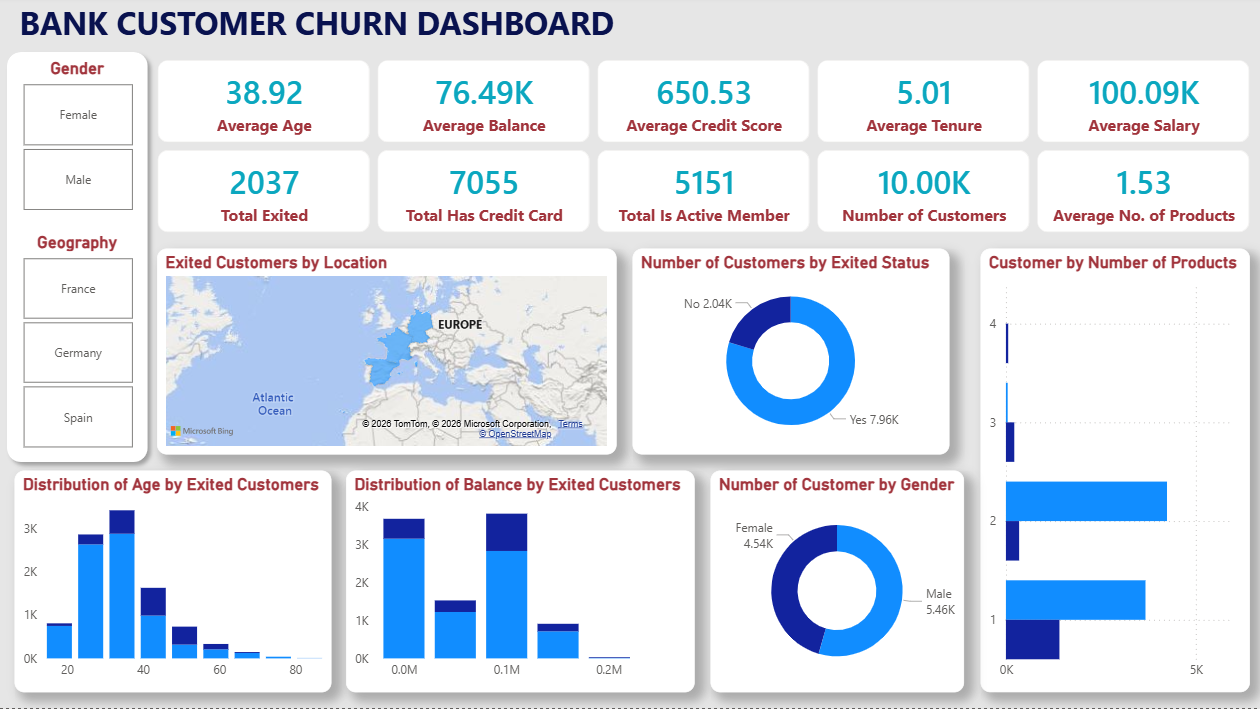

What the dashboard file says about the page in this screenshot:
{"tool":"powerbi","page":{"name":"Page 1","canvas":[1280,720],"ordinal":0},"visuals":[{"type":"textbox","box":[16,0,1024,64],"z":0},{"type":"cardVisual","fields":{"Data":["Avg(Churn_Modelling.Age)","Avg(Churn_Modelling.Balance)","Avg(Churn_Modelling.CreditScore)","Avg(Churn_Modelling.Tenure)","Avg(Churn_Modelling.EstimatedSalary)","Sum(Churn_Modelling.Exited)","Sum(Churn_Modelling.HasCrCard)","Sum(Churn_Modelling.IsActiveMember)","CountNonNull(Churn_Modelling.CustomerId)","Avg(Churn_Modelling.NumOfProducts)"]},"box":[144,48,1136,208],"z":1},{"type":"filledMap","title":"Exited Customers by Location","fields":{"Category":["Churn_Modelling.Geography"],"Series":["Churn_Modelling.Exited"]},"box":[160,256,464,208],"z":2},{"type":"donutChart","title":"Number of Customers by Exited Status","fields":{"Y":["CountNonNull(Churn_Modelling.CustomerId)"],"Category":["Churn_Modelling.Excited Outcome"]},"box":[640,256,320,208],"z":3},{"type":"clusteredBarChart","title":"Customer by Number of Products","fields":{"Category":["Churn_Modelling.NumOfProducts"],"Series":["Churn_Modelling.Exited"],"Y":["CountNonNull(Churn_Modelling.CustomerId)"]},"box":[992,256,272,448],"z":4},{"type":"columnChart","title":"Distribution of Age by Exited Customers","fields":{"Series":["Churn_Modelling.Exited"],"Y":["CountNonNull(Churn_Modelling.CustomerId)"],"Category":["Churn_Modelling.Age (bins)"]},"box":[16,480,320,224],"z":5},{"type":"columnChart","title":"Distribution of Balance by Exited Customers","fields":{"Series":["Churn_Modelling.Exited"],"Y":["CountNonNull(Churn_Modelling.CustomerId)"],"Category":["Churn_Modelling.Balance (bins)"]},"box":[352,480,352,224],"z":6},{"type":"donutChart","title":"Number of Customer by Gender","fields":{"Category":["Churn_Modelling.Gender"],"Y":["CountNonNull(Churn_Modelling.CustomerId)"]},"box":[720,480,256,224],"z":7},{"type":"shape","box":[0,48,160,432],"z":8},{"type":"slicer","title":"Gender","fields":{"Values":["Churn_Modelling.Gender"]},"box":[0,64,160,160],"z":9},{"type":"slicer","title":"Geography","fields":{"Values":["Churn_Modelling.Geography"]},"box":[0,240,160,224],"z":10}]}

Visuals, with their boxes in screenshot pixels (x1, y1, x2, y2), scaled from the page's 1280x720 canvas onto the 1260x709 screenshot:
textbox: 16/0/1024/63
cardVisual - Avg(Churn_Modelling.Age) x Avg(Churn_Modelling.Balance): 142/47/1259/252
"Exited Customers by Location" filledMap: 158/252/614/457
"Number of Customers by Exited Status" donutChart: 630/252/945/457
"Customer by Number of Products" clusteredBarChart: 976/252/1244/693
"Distribution of Age by Exited Customers" columnChart: 16/473/331/693
"Distribution of Balance by Exited Customers" columnChart: 346/473/693/693
"Number of Customer by Gender" donutChart: 709/473/961/693
shape: 0/47/158/473
"Gender" slicer: 0/63/158/221
"Geography" slicer: 0/236/158/457
